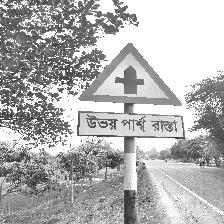Crossroad: (77, 43, 186, 139)
